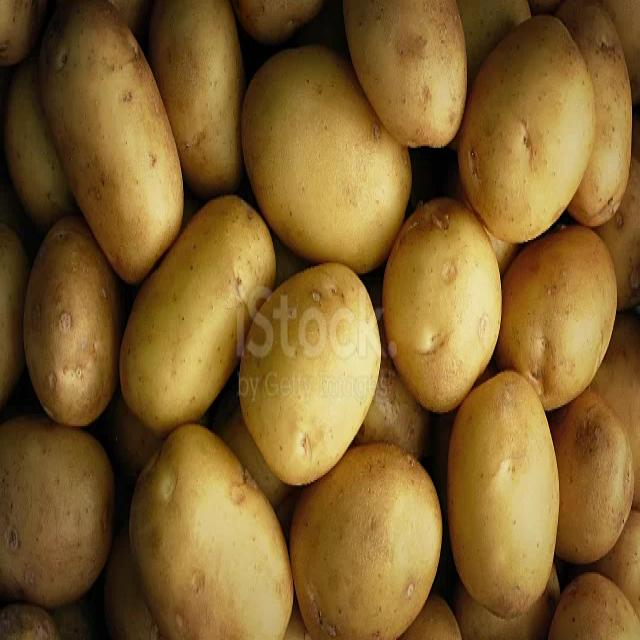potato: (41, 0, 184, 284), (241, 50, 411, 273), (120, 196, 274, 434), (130, 424, 294, 638), (240, 263, 381, 484), (458, 17, 596, 242), (290, 446, 441, 638), (448, 372, 559, 617), (382, 198, 501, 412), (495, 226, 618, 411), (0, 417, 114, 608), (24, 215, 124, 426), (149, 0, 245, 198), (344, 0, 466, 148), (556, 0, 631, 227), (551, 389, 634, 563), (4, 59, 76, 229), (549, 572, 640, 639), (0, 224, 30, 408), (231, 1, 324, 45)
